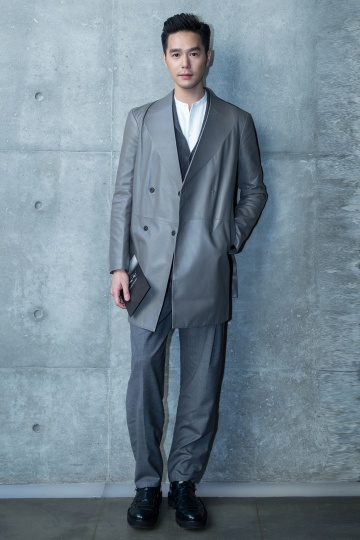male: (159, 12, 229, 104)
